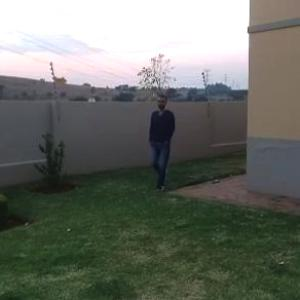follow: (150, 92, 184, 191)
